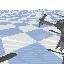drone: (38, 14, 64, 52)
